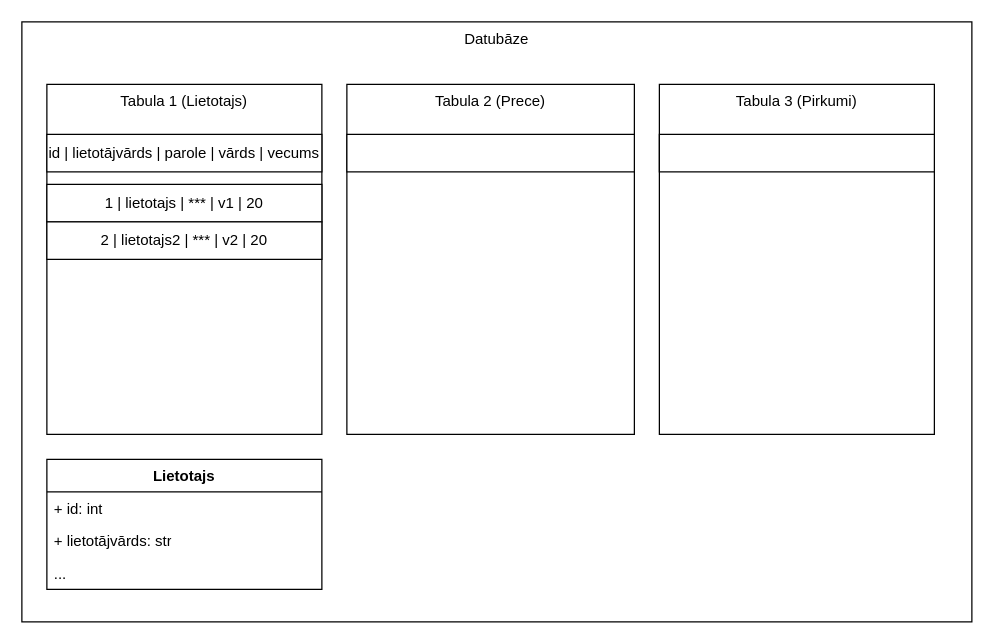
Some shapes in this 994 by 644 pixel diagram are drawn without their labels. Each missing label, with the centre of its shape:
id | lietotajs | prece: the point at 796,152
id | nosaukums | cena: the point at 490,152
